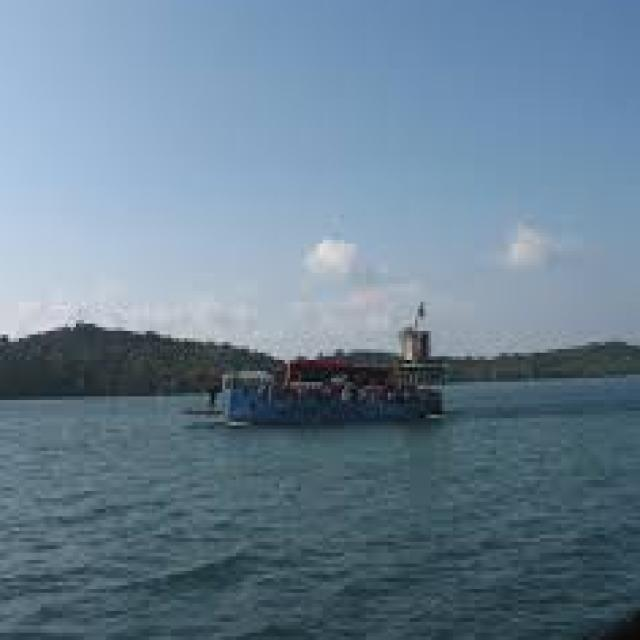fishing boat: (189, 285, 457, 434)
